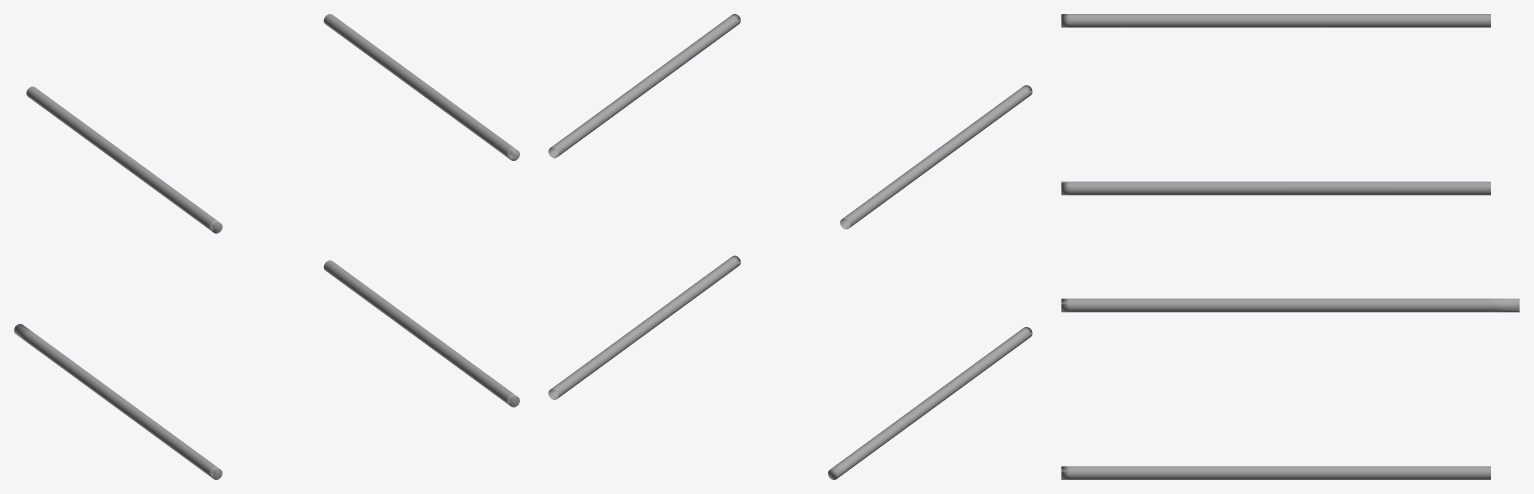
File: TablemeshDiningTable_021_0_GeomSubset_1.obj
3 views of the same model, side by side, from view 1: azimuth 30°, elevation 25°; view 2: azimuth 150°, elevation 25°; view 3: azimuth 270°, elevation 25° (orthographic). The views are drawn at different scales.
Parts seen in each view (by area): view 1: TablemeshDiningTable_021_0_GeomSubset_1; view 2: TablemeshDiningTable_021_0_GeomSubset_1; view 3: TablemeshDiningTable_021_0_GeomSubset_1.
Part boxes in pixels (x1=…): TablemeshDiningTable_021_0_GeomSubset_1: x1=14, y1=14, x2=519, y2=479; TablemeshDiningTable_021_0_GeomSubset_1: x1=548, y1=14, x2=1032, y2=479; TablemeshDiningTable_021_0_GeomSubset_1: x1=1061, y1=14, x2=1519, y2=479.
Bounding box in the file's own units: 0.6404 × 0.5115 × 0.7147.
1 material, 1 textured.
